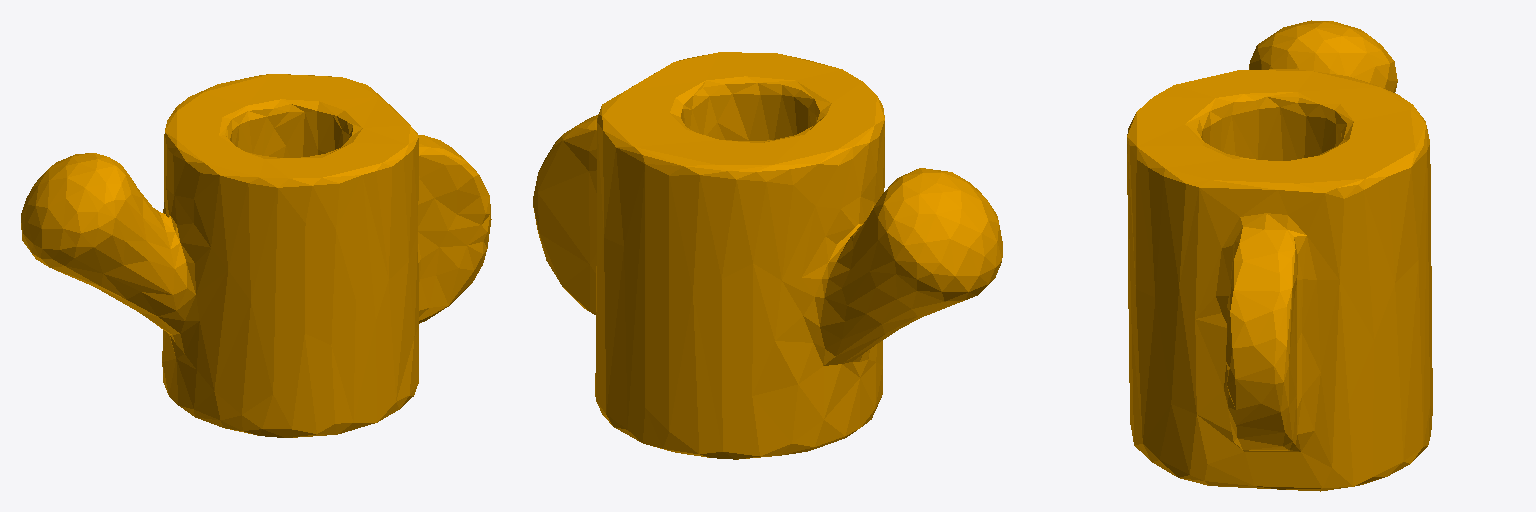
URDF robot description (30admsmv):
<?xml version='1.0'?>

<robot name="30admsmv">
    <static>false</static>
    <link name="link">
        <inertial>
            <mass value="0.17873315168799148"/>
            <inertia ixx="0.00012192563209677891" ixy="7.776718592661752e-06" ixz="1.3211176213567827e-05"
                     iyy="0.00017625099853900276" iyz="-2.1475515021530915e-06" izz="0.00014947221673956696"/>
        </inertial>
        <collision name="collision">
            <geometry>
                <mesh filename="package://miscnet/train/30admsmv/collision_model_vhacd.obj"/>
            </geometry>
        </collision>
        <visual name="visual">
            <geometry>
                <mesh filename="package://miscnet/train/30admsmv/visual_model.obj"/>
            </geometry>
        </visual>
    </link>
</robot>

--- Facts derived from the render (not from the file) ---
Views: 3 orthographic renders of the robot side by side, from view 1: azimuth 30°, elevation 25°; view 2: azimuth 150°, elevation 25°; view 3: azimuth 270°, elevation 25°.
Robot: 30admsmv — 1 links, 0 joints (none); root link link; default pose: all joints at 0.
Links seen in each view (by area): view 1: link; view 2: link; view 3: link.
Boxes of the visible links, <box> form: link: <box>21,74,491,437</box>; link: <box>533,52,1002,459</box>; link: <box>1127,20,1432,491</box>.
Bounding box of the posed robot: 0.1279 × 0.0672 × 0.0744 m (x, y, z).
1 mesh visuals loaded from 1 distinct referenced files (1 OBJ).
